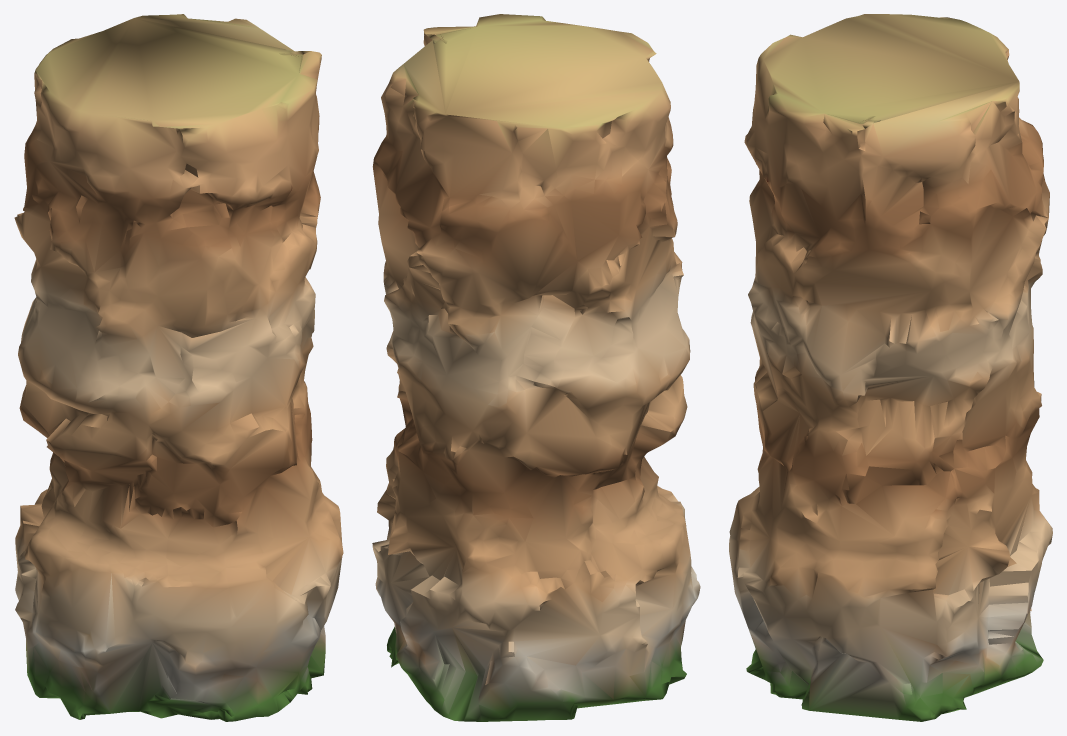
File: shore_sea_stack_lod1.glb
The picture shows the model from 3 angles, left to right: view 1: azimuth 30°, elevation 25°; view 2: azimuth 150°, elevation 25°; view 3: azimuth 270°, elevation 25°; orthographic projection.
Visible parts, largest first — view 1: shore_sea_stack.001; view 2: shore_sea_stack.001; view 3: shore_sea_stack.001.
Part boxes in pixels (<box>): shore_sea_stack.001: <box>14,14,343,721</box>; shore_sea_stack.001: <box>372,14,700,721</box>; shore_sea_stack.001: <box>729,14,1052,721</box>.
Bounding box in the file's own units: 11.35 × 22.61 × 11.26.
